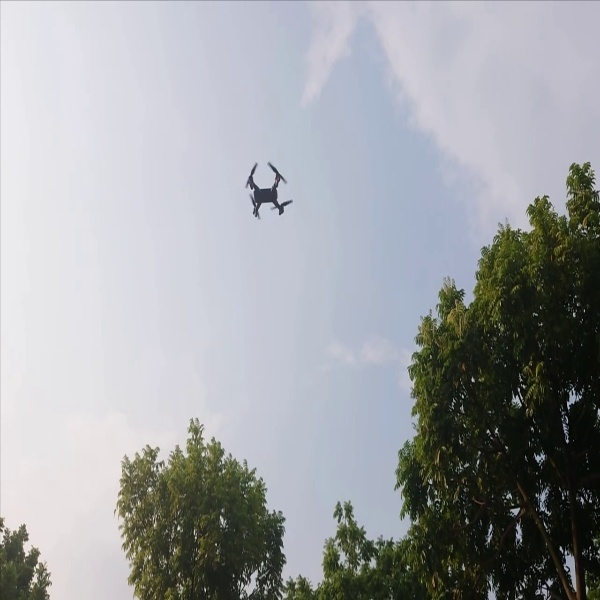drone: (237, 157, 296, 223)
